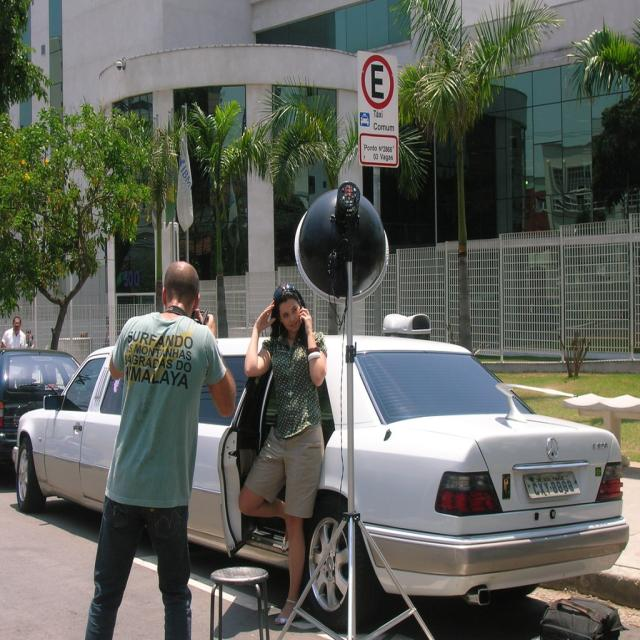car: (10, 315, 628, 630)
